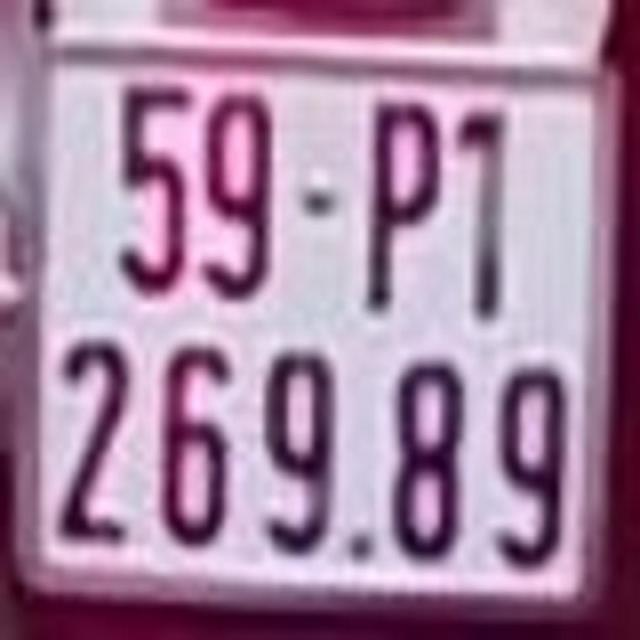1: (454, 101, 512, 316)
2: (56, 342, 132, 540)
5: (111, 82, 188, 289)
6: (153, 346, 231, 538)
8: (394, 362, 461, 560)
9: (203, 94, 277, 300), (258, 356, 329, 559), (498, 370, 566, 569)
P: (363, 98, 445, 319)
